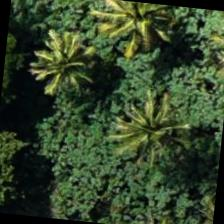Kelapa_Sawit: (14, 12, 114, 111), (101, 78, 200, 177), (83, 0, 180, 66)
